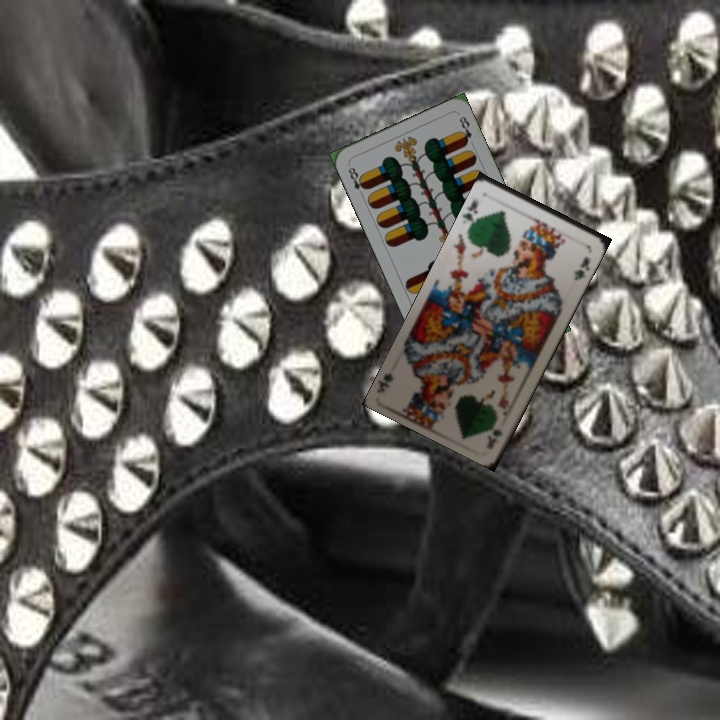E8: (344, 160, 370, 199)
GK: (460, 195, 482, 230), (485, 424, 505, 447)
